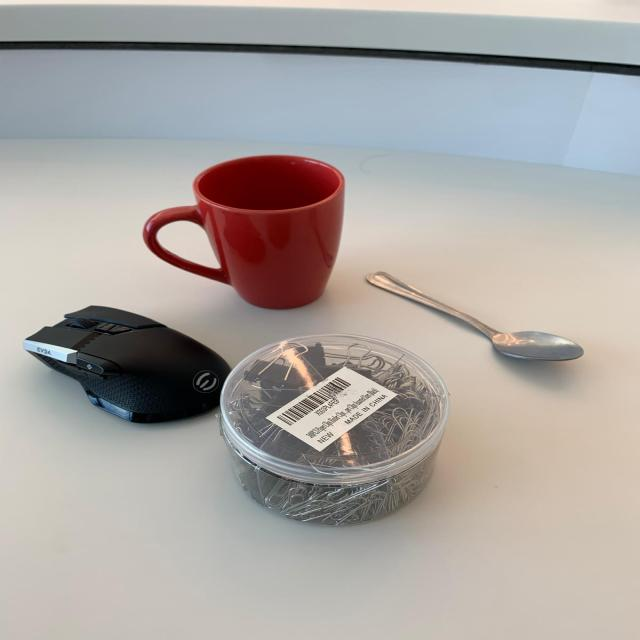Cup: (137, 152, 366, 317)
Mouse: (13, 292, 253, 430)
Spoon: (353, 269, 588, 371)
